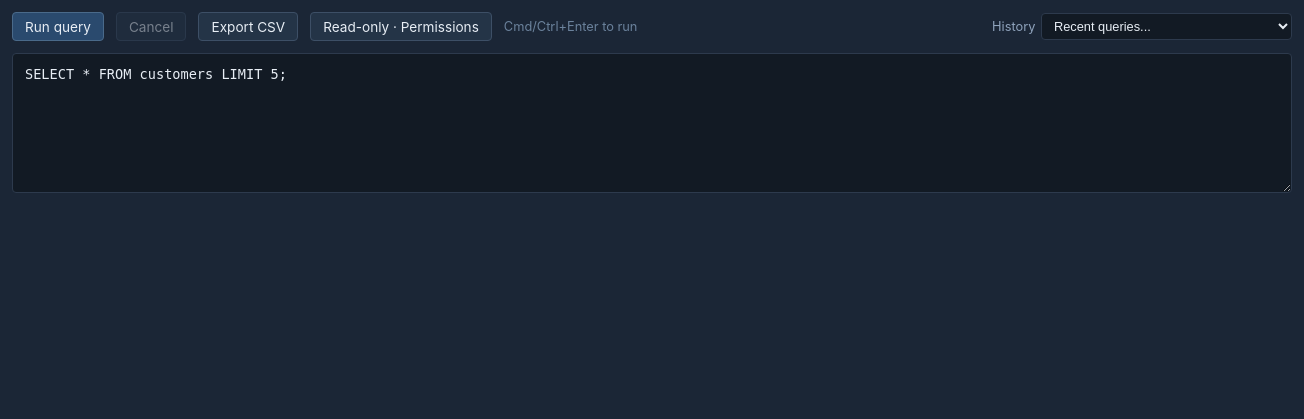
SqlEditor permissions › offers to allow a blocked category
The width and height of the screenshot is (1304, 419).
Check: the button "Read-only · Permissions" is shown, box [310, 12, 492, 41]
Replace the text in the text box named "SQL" with "DELETE FROM t" at coordinates (652, 123), box [12, 53, 1292, 193]
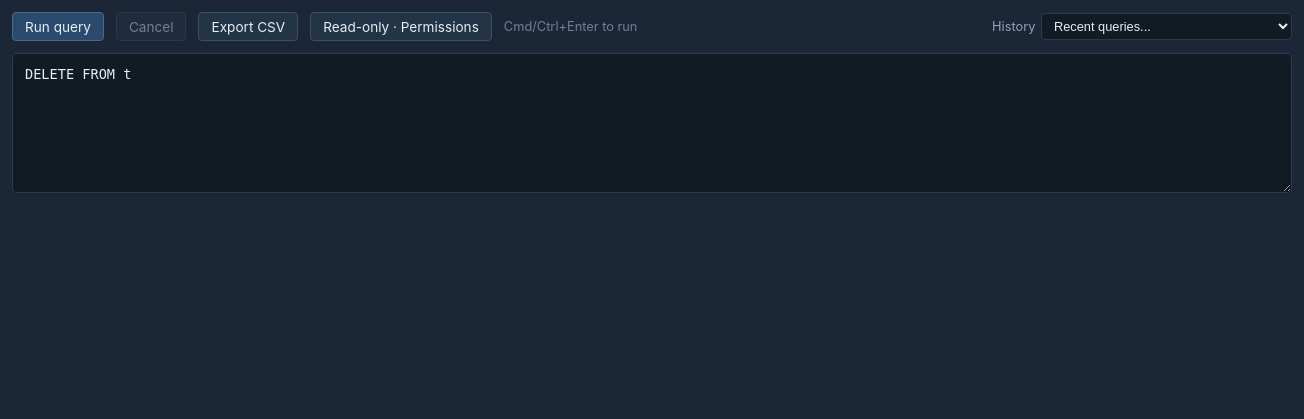
Click the button "Run query".
click(58, 27)  # box [12, 12, 104, 41]
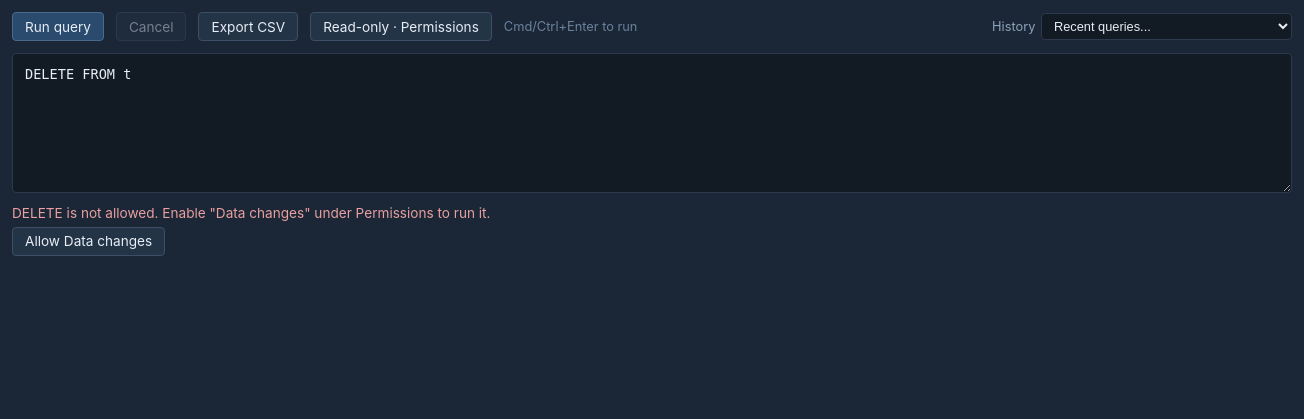
Click the button "Allow Data changes".
click(89, 241)  # box [12, 227, 165, 256]
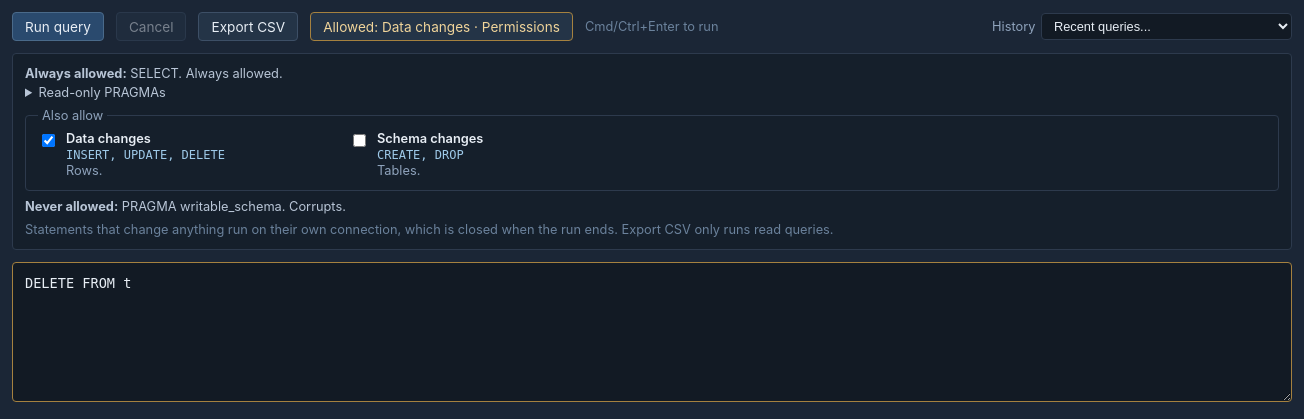
Check: the checkbox labelled "Data changes INSERT, UPDATE, DELETE Rows." is checked, box [42, 134, 55, 147]
Check: the message "DELETE is not allowed. Enable \"Data changes\" under Permissions to run it. Allow" is gone
